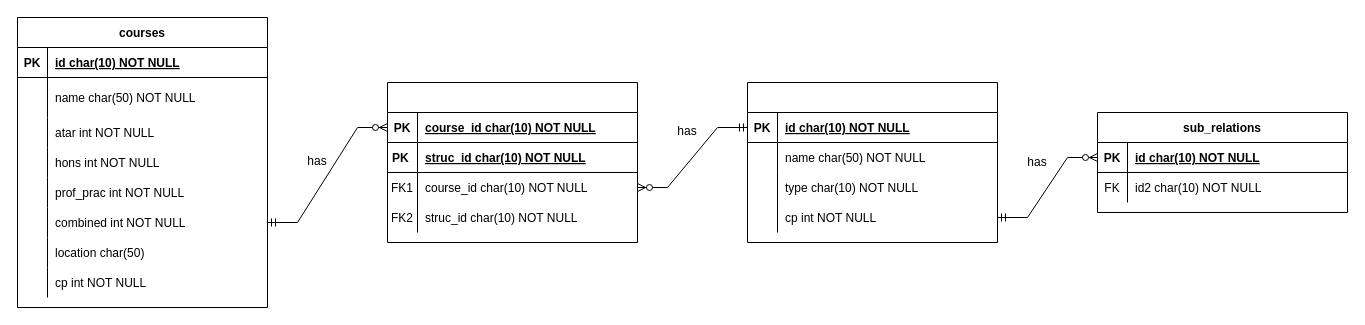
This 1365x325 diagram has some shape labels left out. The box of each missing label's shape, as (x1, y1, x2, y2) in pixels:
relations: (386, 82, 638, 242)
sub_structures: (746, 82, 998, 242)
